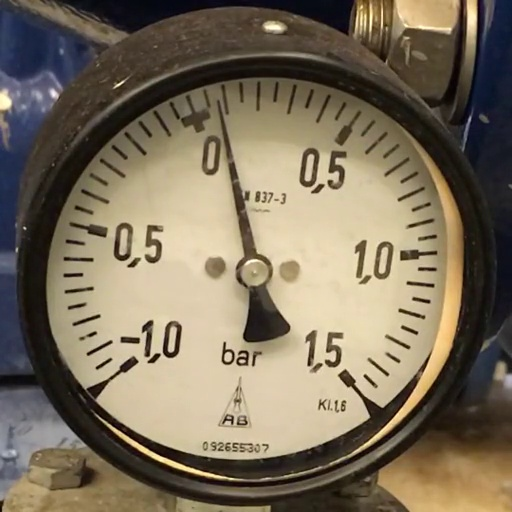base: (236, 254, 272, 290)
circle_plate: (46, 76, 467, 459)
maximum: (336, 368, 358, 390)
minimum: (118, 354, 140, 374)
number: (120, 319, 184, 364), (112, 220, 164, 269), (298, 147, 348, 195), (353, 236, 395, 286), (303, 328, 344, 372), (200, 134, 222, 176)
tip: (215, 98, 222, 106)
